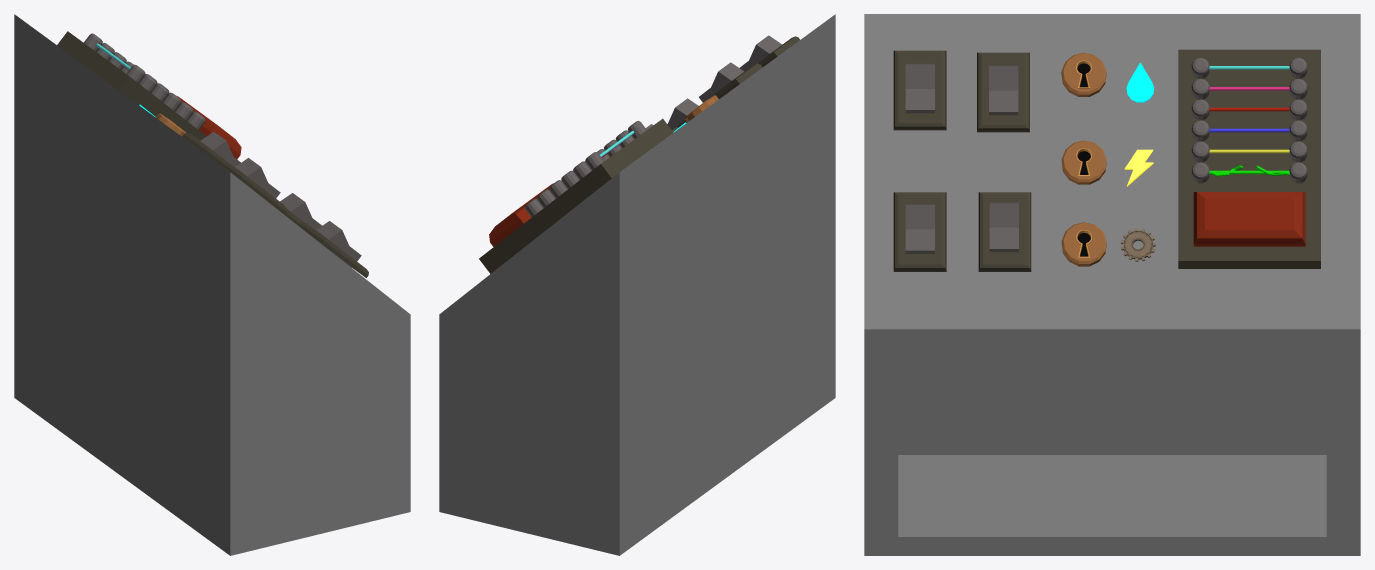
Rendered from PainelCentral.fbx.
3 renders of one model, left to right at view 1: azimuth 30°, elevation 25°; view 2: azimuth 150°, elevation 25°; view 3: azimuth 270°, elevation 25°, orthographic. The views are drawn at different scales.
Visible parts, largest first — view 1: Painel, BaseFios, LigarFios, BaseBotao, BotaoONOFF.002, BotaoONOFF.003, BaseBotao.002, BotaoDesativar, BotaoONOFF.001, BotaoONOFF; view 2: Painel, BaseFios, LigarFios, BotaoDesativar, BotaoONOFF, BaseBotao.002; view 3: Painel, BaseFios, BotaoDesativar, LigarFios, BotaoONOFF.002, BaseBotao, BaseBotao.003, BaseBotao.001, Fechadura, Fechadura.001, Fechadura.002, BotaoONOFF (+5 smaller).
Part boxes in pixels (box(x1,y1,x2,y2)): Painel: box(14, 14, 410, 555); BaseFios: box(57, 31, 206, 140); LigarFios: box(83, 33, 205, 129); BaseBotao: box(299, 222, 368, 277); BotaoONOFF.002: box(217, 159, 287, 214); BotaoONOFF.003: box(316, 221, 361, 267); BaseBotao.002: box(235, 158, 280, 198); BotaoDesativar: box(169, 93, 241, 159); BotaoONOFF.001: box(280, 193, 321, 229); BotaoONOFF: box(200, 132, 240, 166); Painel: box(439, 14, 835, 555); BaseFios: box(479, 118, 673, 273); LigarFios: box(525, 120, 646, 217); BotaoDesativar: box(489, 183, 553, 246); BotaoONOFF: box(699, 62, 743, 102); BaseBotao.002: box(739, 35, 781, 71); Painel: box(864, 14, 1360, 555); BaseFios: box(1178, 49, 1320, 268); BotaoDesativar: box(1193, 192, 1305, 246); LigarFios: box(1191, 57, 1307, 183); BotaoONOFF.002: box(893, 50, 946, 130); BaseBotao: box(893, 192, 946, 271); BaseBotao.003: box(978, 192, 1031, 271); BaseBotao.001: box(977, 52, 1029, 132); Fechadura: box(1061, 140, 1106, 184); Fechadura.001: box(1061, 222, 1106, 266); Fechadura.002: box(1061, 52, 1106, 96); BotaoONOFF: box(989, 65, 1018, 115).
Size of the model in its own units: 77.65 by 158 by 161.
Materials: 22 (1 with a texture image).
